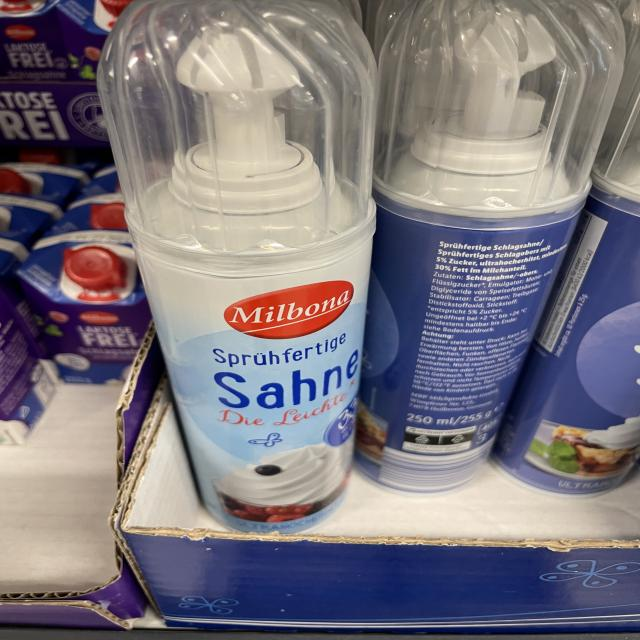cream: (99, 0, 375, 534), (354, 0, 624, 495), (494, 38, 640, 496), (15, 229, 150, 383), (0, 0, 69, 80)
